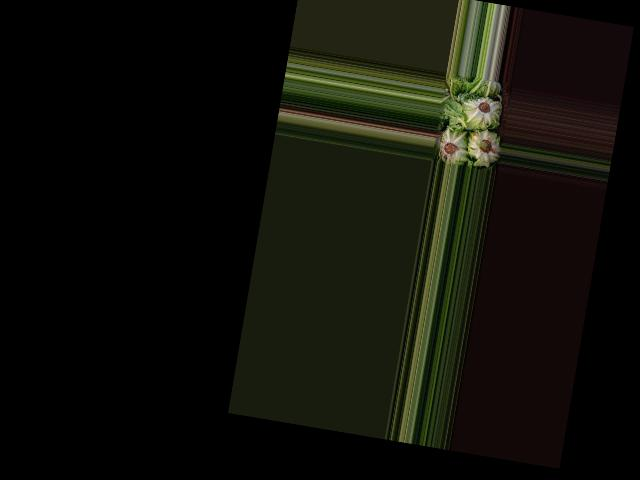lettuce: (436, 126, 472, 166)
